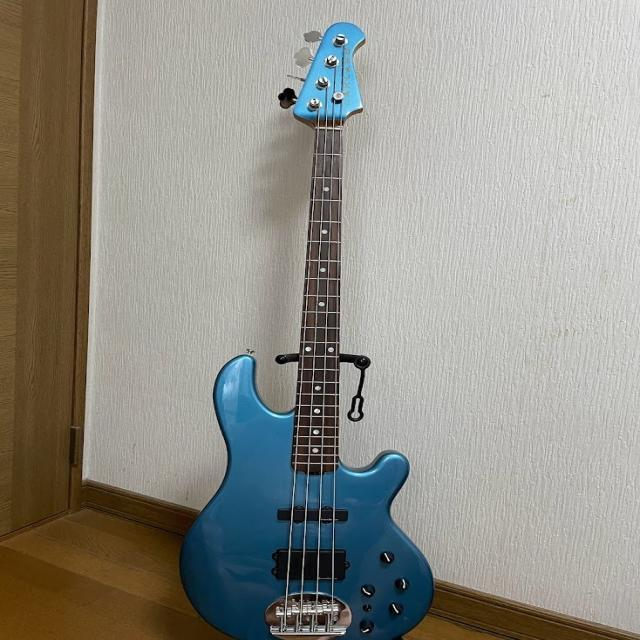bass: (181, 23, 432, 639)
